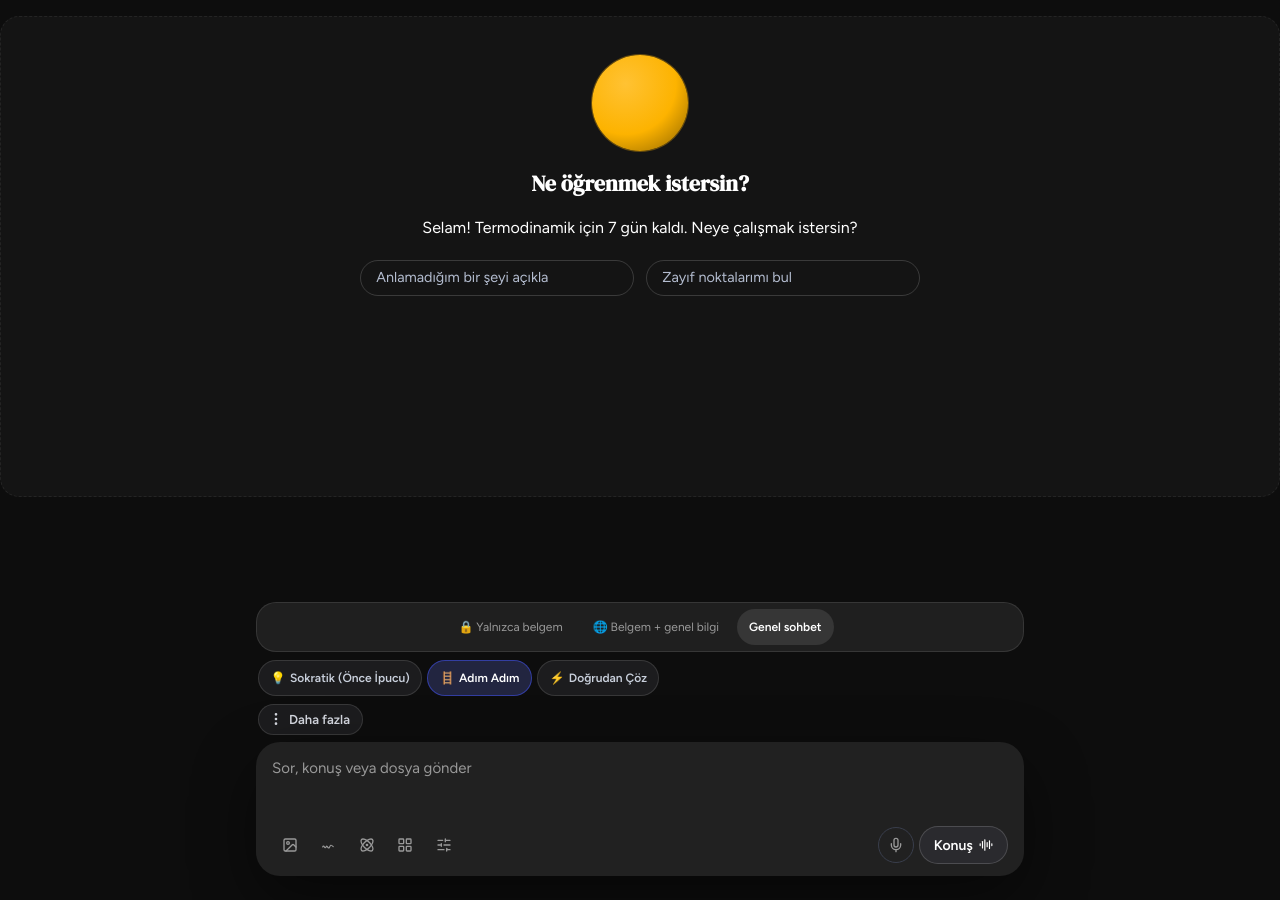
Test: sohbet: ruh hali, periyodik tablo, ders etiketi › periyodik tablo sohbetin üstünde açılır, Araçlar'a geri bağlantısı yok
This screenshot has width=1280, height=900.
What coordinates should you click on to do the following:
click the button named "Periyodik tablo"
I would click on:
 (367, 845)
Its box is x1=349 y1=827 x2=385 y2=863.
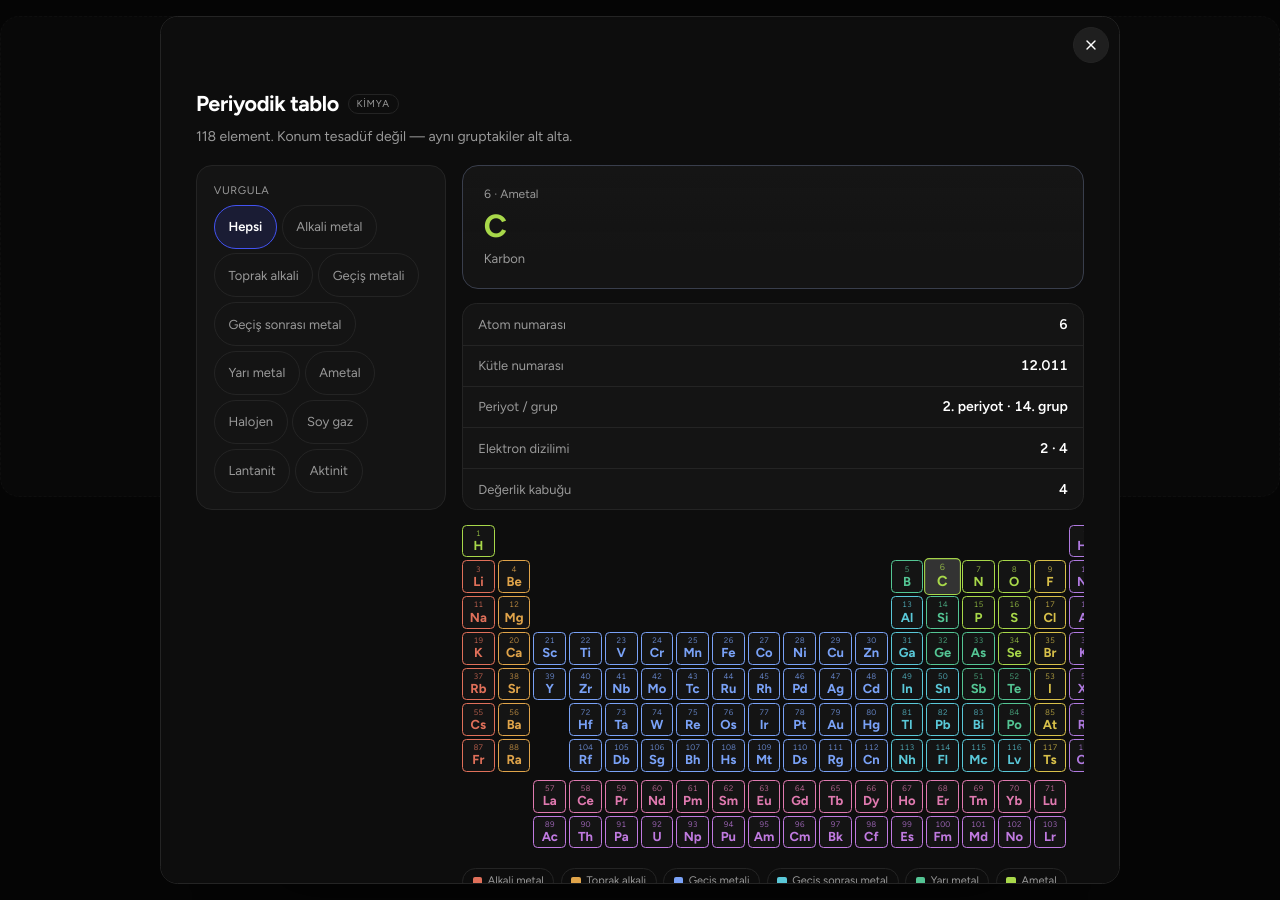
Now the dialog "Periyodik tablo" shows "118 element", box x1=196 y1=128 x2=572 y2=145
What coordinates should you click on to do the following:
click the button named "Kapat"
I would click on:
 (1091, 45)
Its box is x1=1073 y1=27 x2=1109 y2=63.
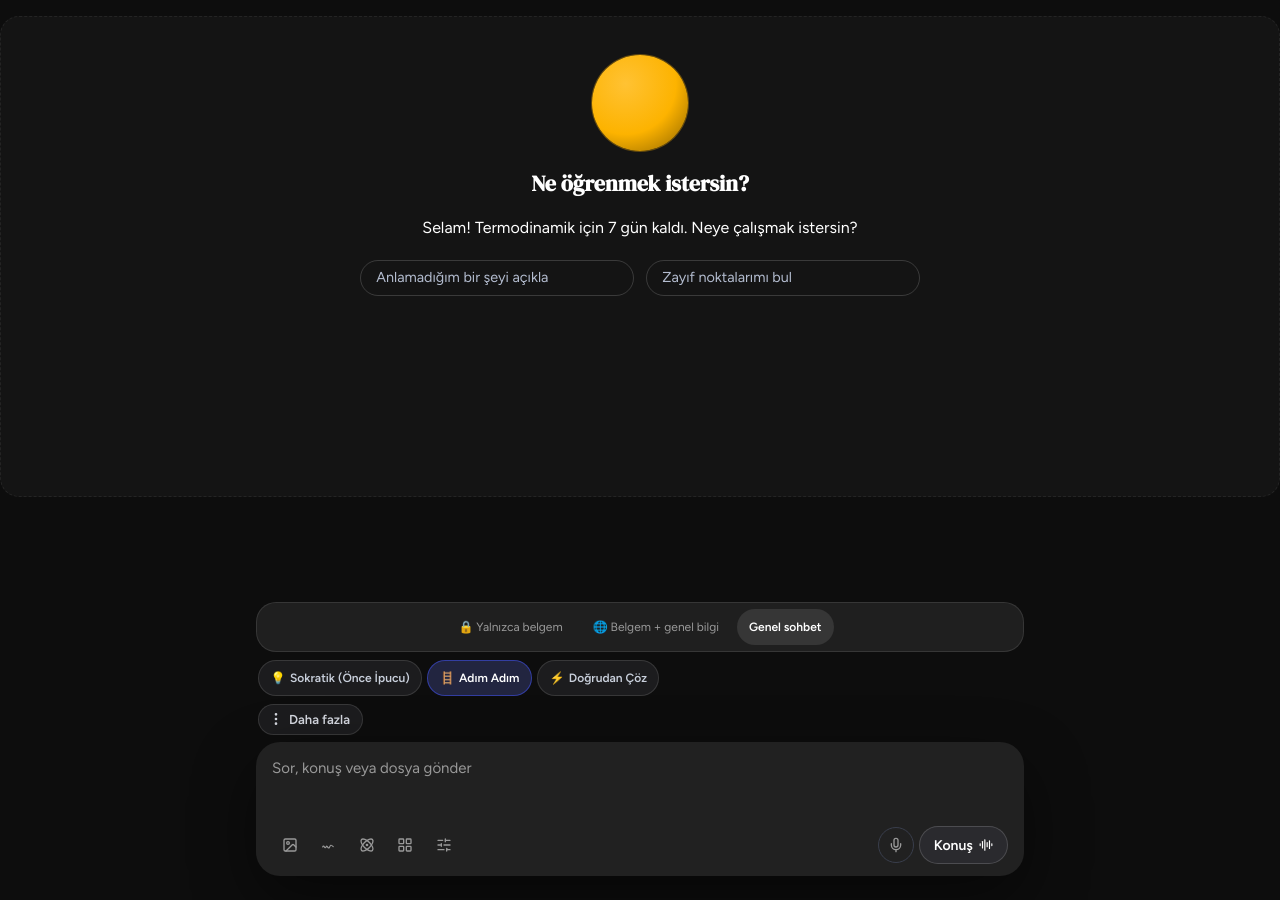
Now the heading "Periyodik tablo" is gone
